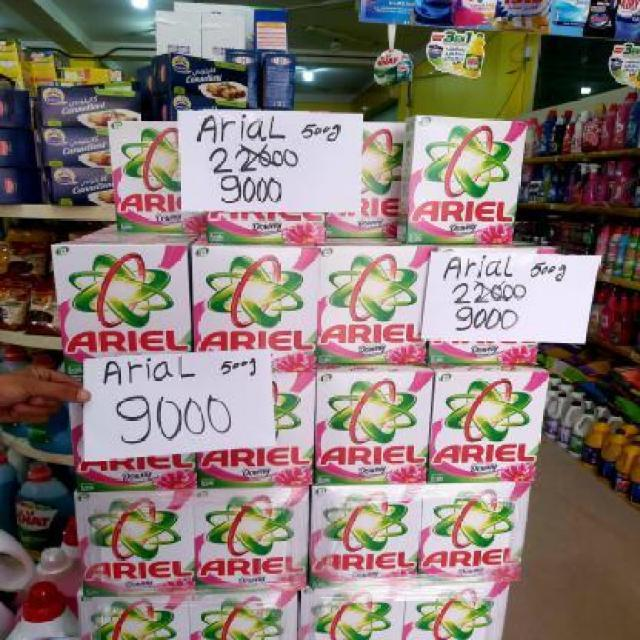Detergent: (53, 244, 193, 360), (187, 244, 316, 362), (404, 116, 516, 244), (316, 362, 427, 484), (318, 241, 424, 363), (72, 490, 194, 596), (192, 488, 309, 590), (312, 485, 418, 588), (423, 483, 529, 583), (108, 118, 194, 232), (406, 583, 510, 640), (299, 586, 403, 640), (78, 594, 190, 640), (362, 122, 406, 238), (189, 592, 291, 640)
